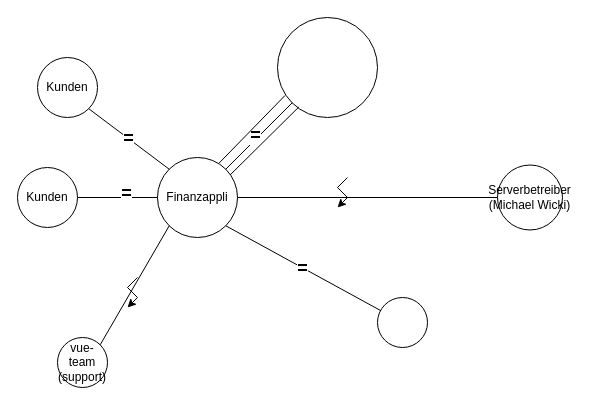
This 589x405 diagram has some shape labels left out. The centre of each missing label's shape, as x and y in pixels:
"Docker (support)" belongs at (x=402, y=322).
"Jenny Nicolette (Auftragsgeberin)" belongs at (x=327, y=67).
